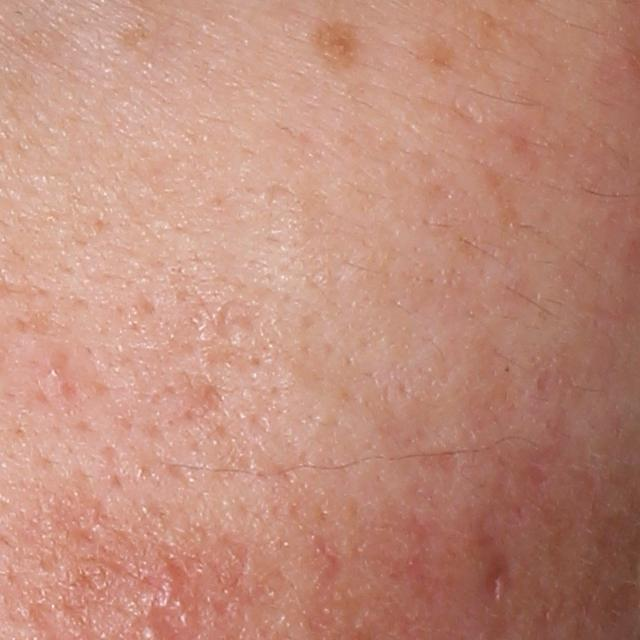atrophic_scar: (483, 555, 507, 606)
melasma: (476, 9, 538, 61), (414, 32, 469, 87), (310, 20, 363, 72), (122, 23, 157, 50)
papule: (152, 561, 187, 606)
